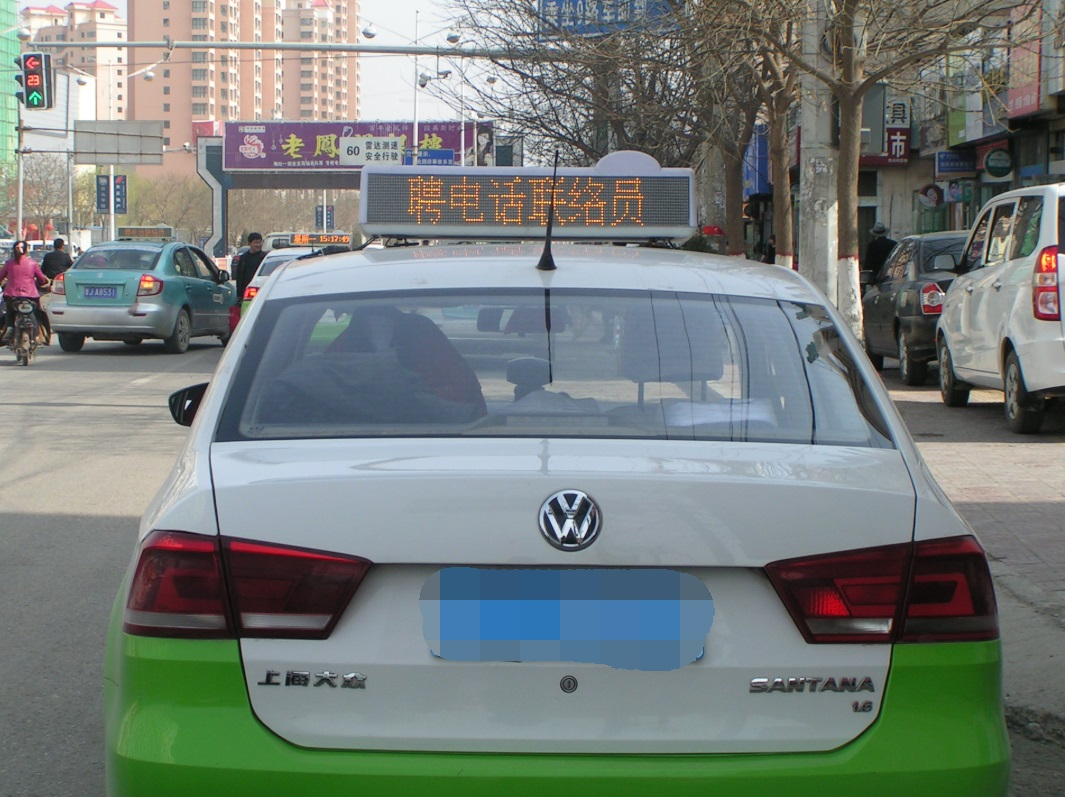taxi: (93, 146, 1017, 797)
